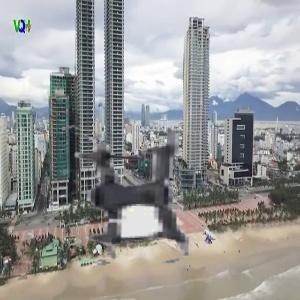drone: (46, 108, 220, 282)
